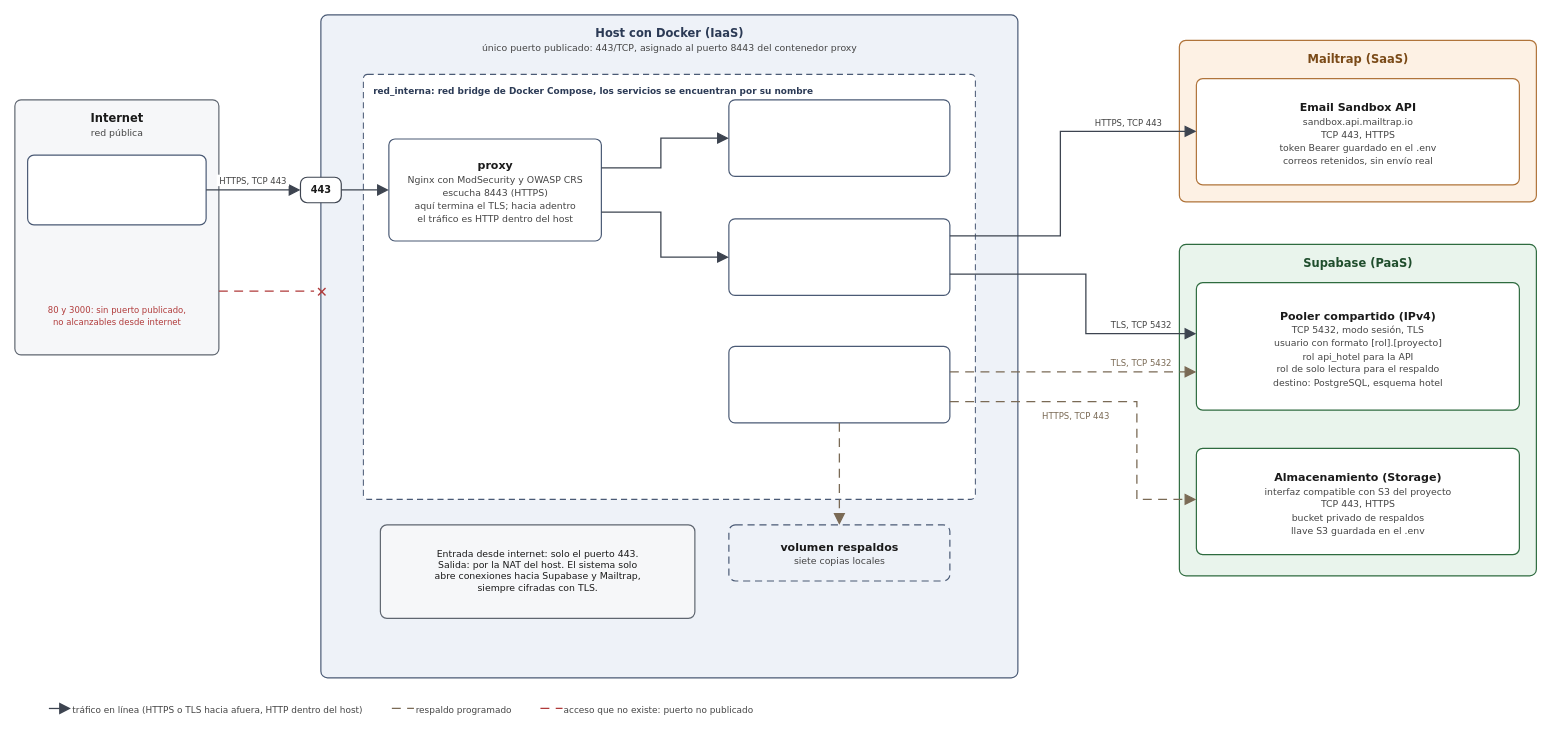
Some shapes in this 1552 by 734 pixel diagram are drawn without their labels. The shapes that lost their labels are listed below. From the top down, each one's centre as x and y in pixels, then its label:
At (694,129): "ruta /".
At (839,138): "frontend Nginx con los archivos estáticos escucha 80 (HTTP), no publicado".
At (116,189): "Navegador del huésped, de recepción o de administración".
At (694,248): "ruta /api/".
At (839,257): "api Node.js con Express escucha 3000 (HTTP), no publicado".
At (839,384): "respaldo cron con pg_dump (cliente 17) sin puertos de escucha".
